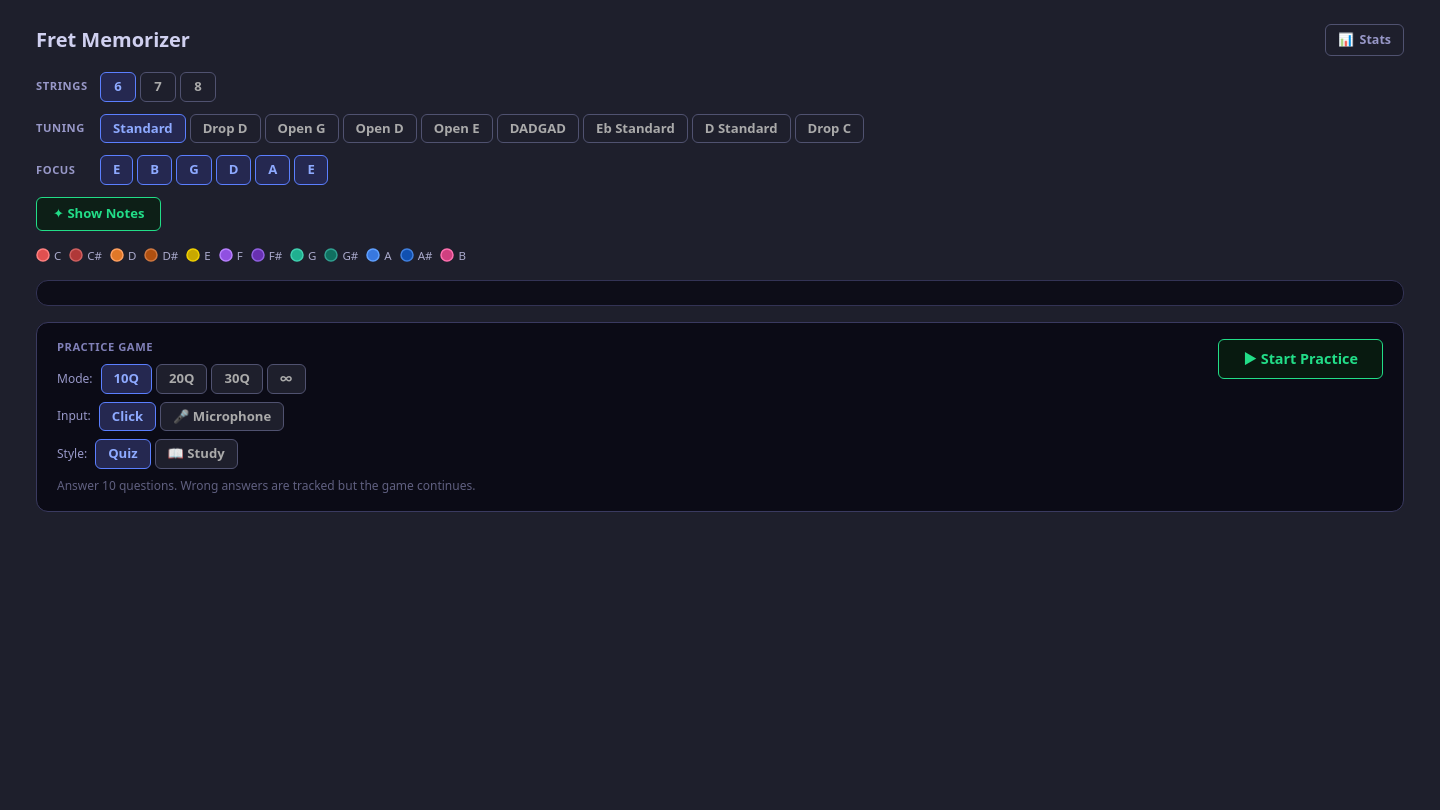
Test: SessionChart › shows date labels when sessions has ≥ 2 entries
Step 1. Click the button "📊 Stats" → (1364, 40), box [1325,24,1404,56]
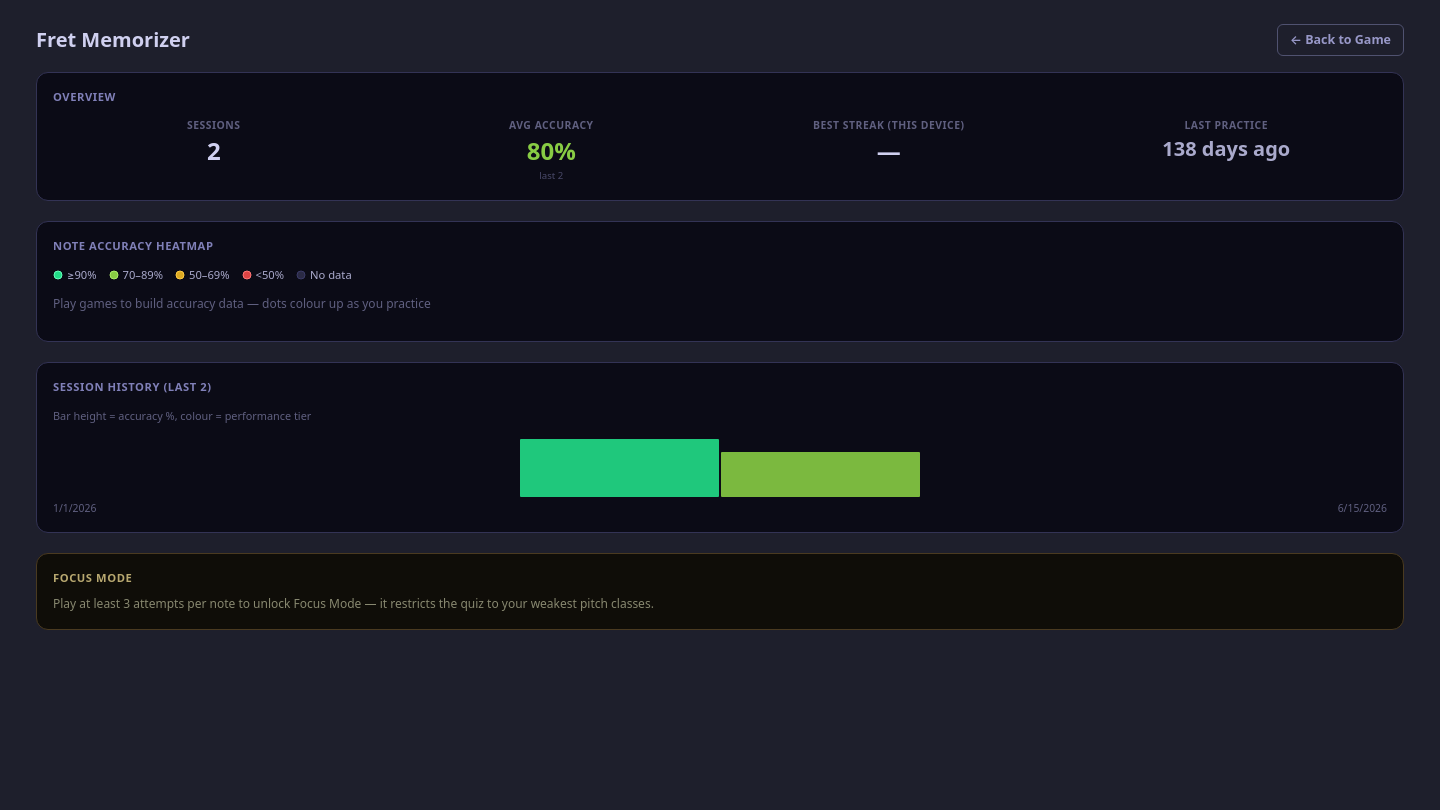
Check: the icon named "Session history bar chart" is shown, box [53,432,1387,496]
Check: the element named "Session history bar chart" is shown, box [53,432,1387,516]
Check: the element with class "justify-between" showing "1/1/2026 6/15/2026" is shown, box [53,500,1387,516]
